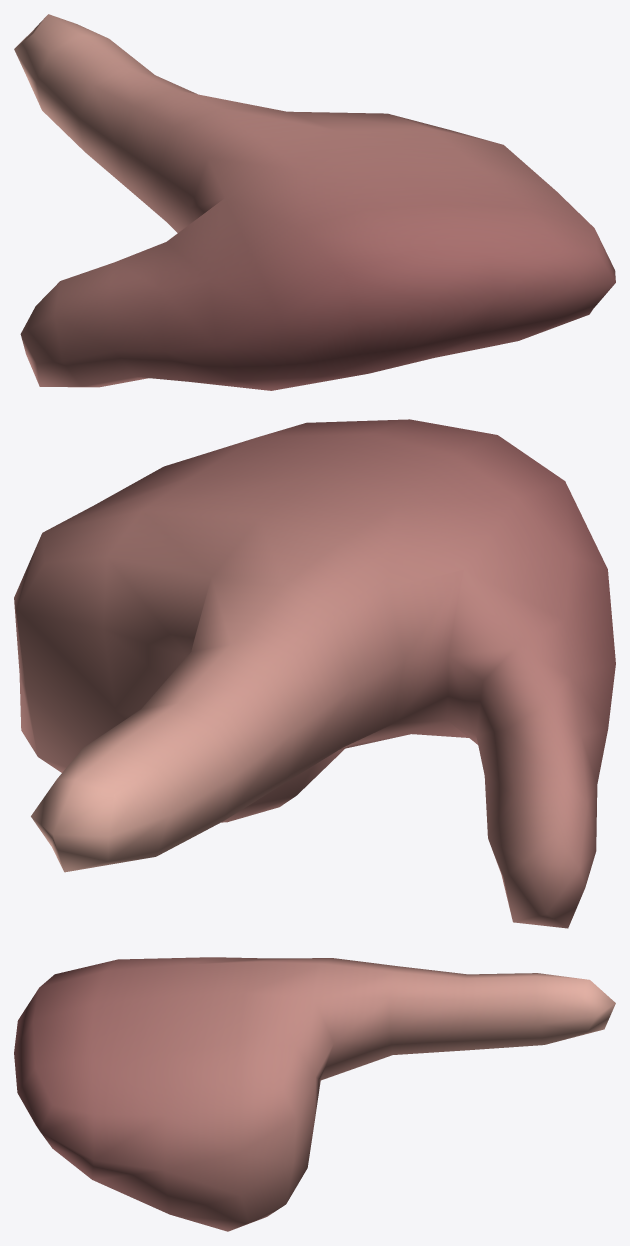
File: apainter-hand.gltf
The picture shows the model from 3 angles, top to bottom: view 1: azimuth 30°, elevation 25°; view 2: azimuth 150°, elevation 25°; view 3: azimuth 270°, elevation 25°; orthographic projection. The views are drawn at different scales.
Parts seen in each view (by area): view 1: Cube.001; view 2: Cube.001; view 3: Cube.001.
Part boxes in pixels (<box>): Cube.001: <box>14,14,615,390</box>; Cube.001: <box>14,419,615,928</box>; Cube.001: <box>14,957,615,1231</box>.
Size of the model in its own units: 0.1685 by 0.0792 by 0.2299.
